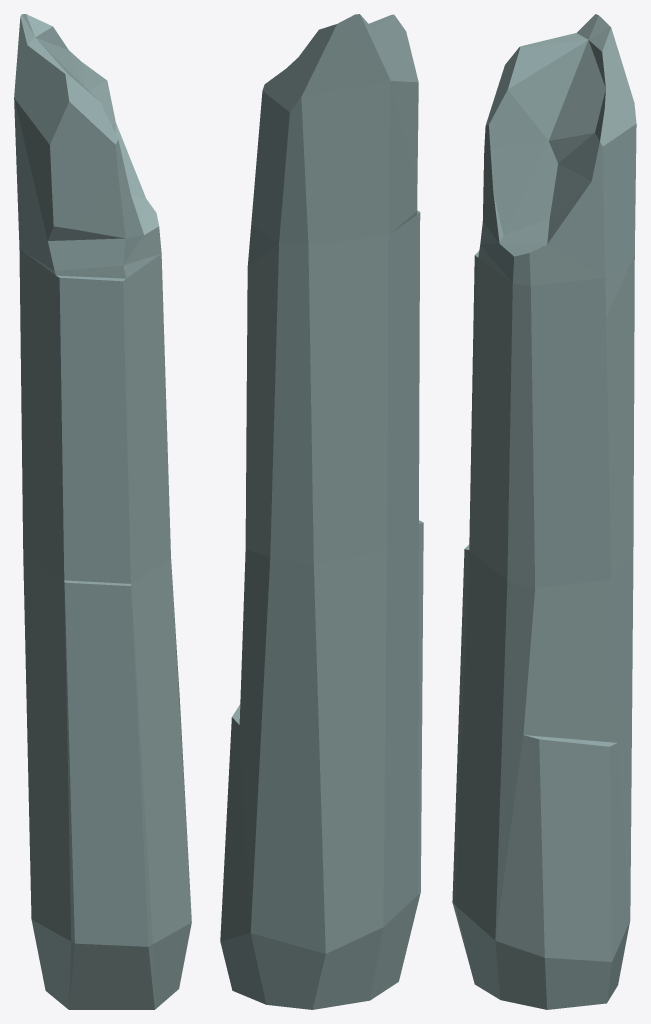
The model's file is enemy_broken_crystal_2.fbx.
3 views of the same model, side by side, from view 1: azimuth 30°, elevation 25°; view 2: azimuth 150°, elevation 25°; view 3: azimuth 270°, elevation 25° (orthographic). The views are drawn at different scales.
Visible parts, largest first — view 1: Cristal_Long_Broken; view 2: Cristal_Long_Broken; view 3: Cristal_Long_Broken.
Boxes of the visible parts, bbox=[...] form: Cristal_Long_Broken: bbox=[14, 14, 191, 1009]; Cristal_Long_Broken: bbox=[220, 14, 423, 1009]; Cristal_Long_Broken: bbox=[452, 14, 636, 1009].
Bounding box in the file's own units: 2149 × 12614 × 2248.
